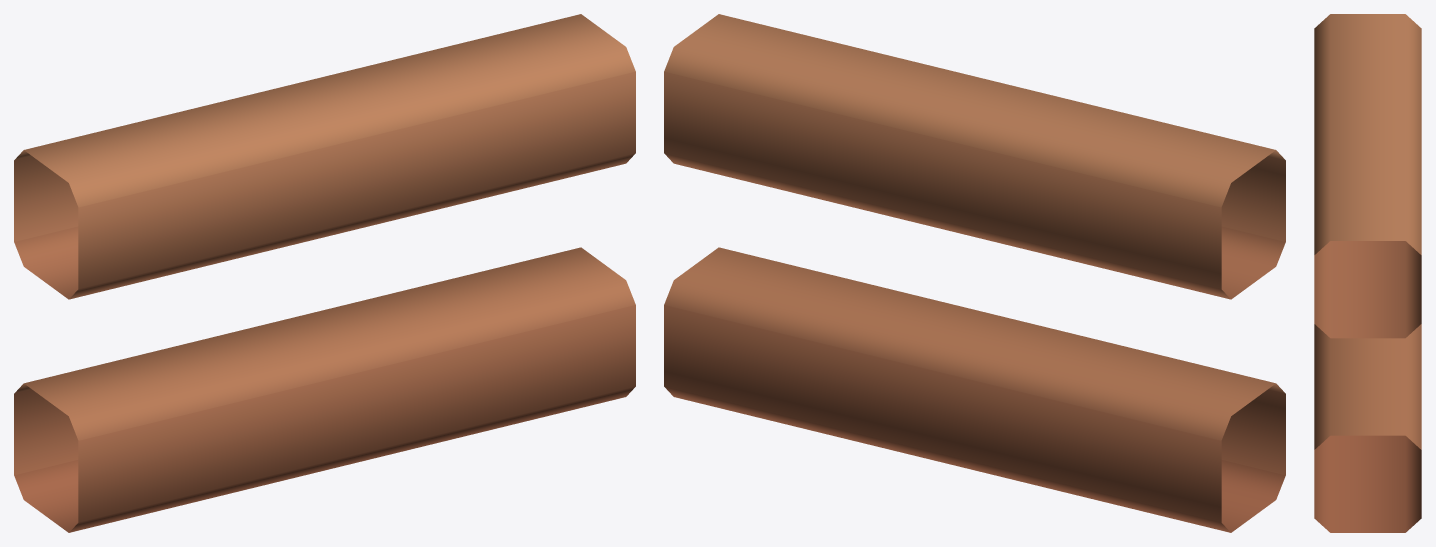
File: fence_rails.fbx
3 views of the same model, side by side, from view 1: azimuth 30°, elevation 25°; view 2: azimuth 150°, elevation 25°; view 3: azimuth 270°, elevation 25° (orthographic). The views are drawn at different scales.
Parts seen in each view (by area): view 1: fence_rails; view 2: fence_rails; view 3: fence_rails.
Boxes of the visible parts, x1=… form: fence_rails: x1=14, y1=14, x2=635, y2=532; fence_rails: x1=664, y1=14, x2=1285, y2=532; fence_rails: x1=1314, y1=14, x2=1421, y2=532.
Bounding box in the file's own units: 1 × 0.6 × 0.2.
